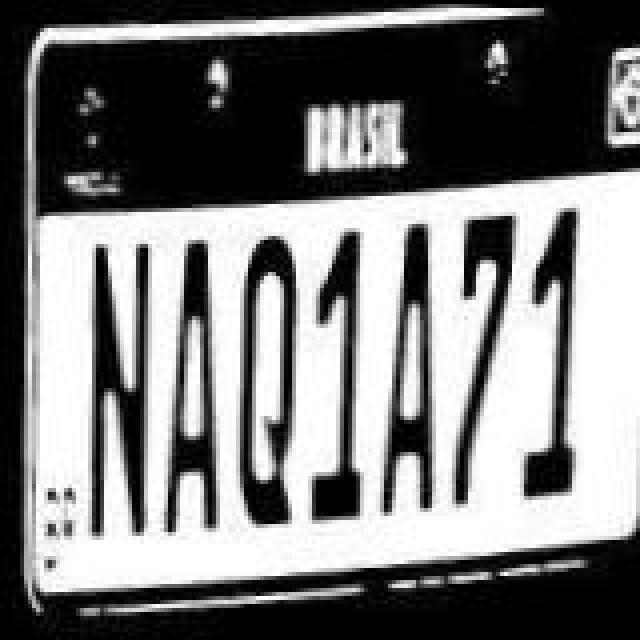1: (510, 212, 598, 508), (296, 216, 380, 520)
7: (438, 210, 526, 506)
A: (146, 234, 234, 542), (374, 212, 454, 508)
N: (66, 230, 162, 538)
Q: (222, 228, 310, 536)
